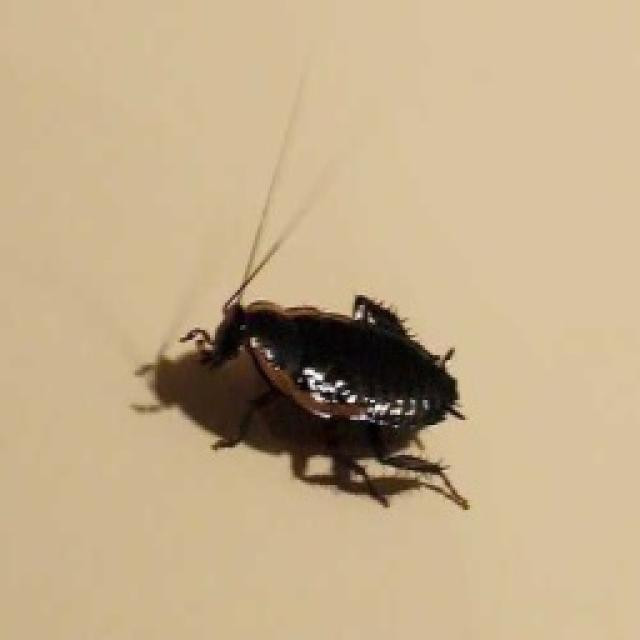cockroach: (186, 250, 479, 492)
